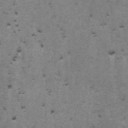oxide scale of temperature system: (7, 28, 66, 120), (114, 70, 126, 102), (91, 22, 106, 37), (92, 110, 104, 114), (108, 50, 116, 55), (120, 24, 124, 28)
